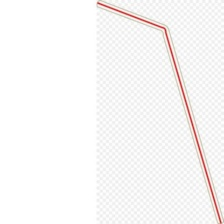drinking_straw: (92, 0, 224, 224)
